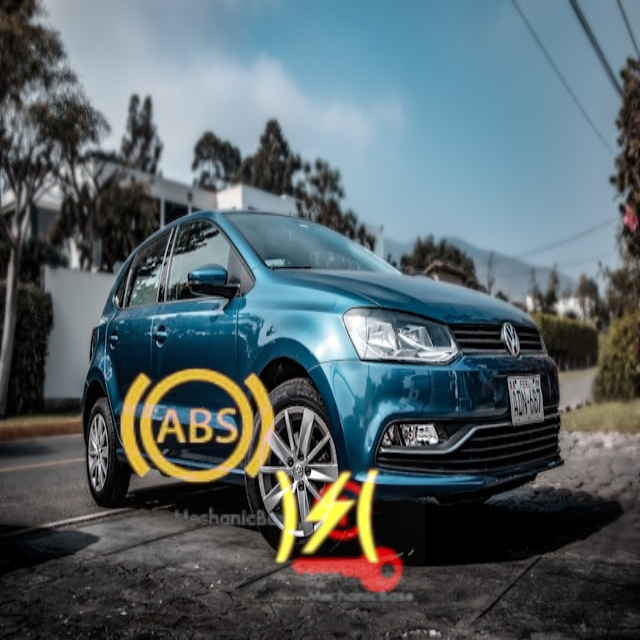symbol: (88, 319, 305, 536), (234, 424, 421, 611), (268, 459, 425, 616)
